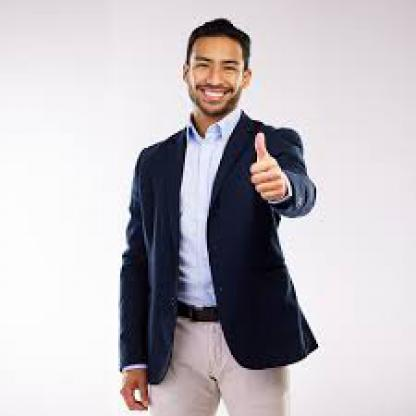Thumbs up: (246, 131, 297, 214)
